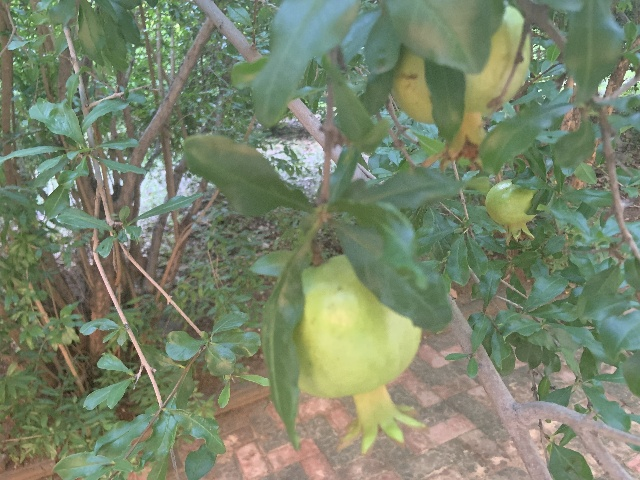mid-growth: (293, 253, 427, 453), (391, 4, 529, 176), (485, 179, 537, 246)
